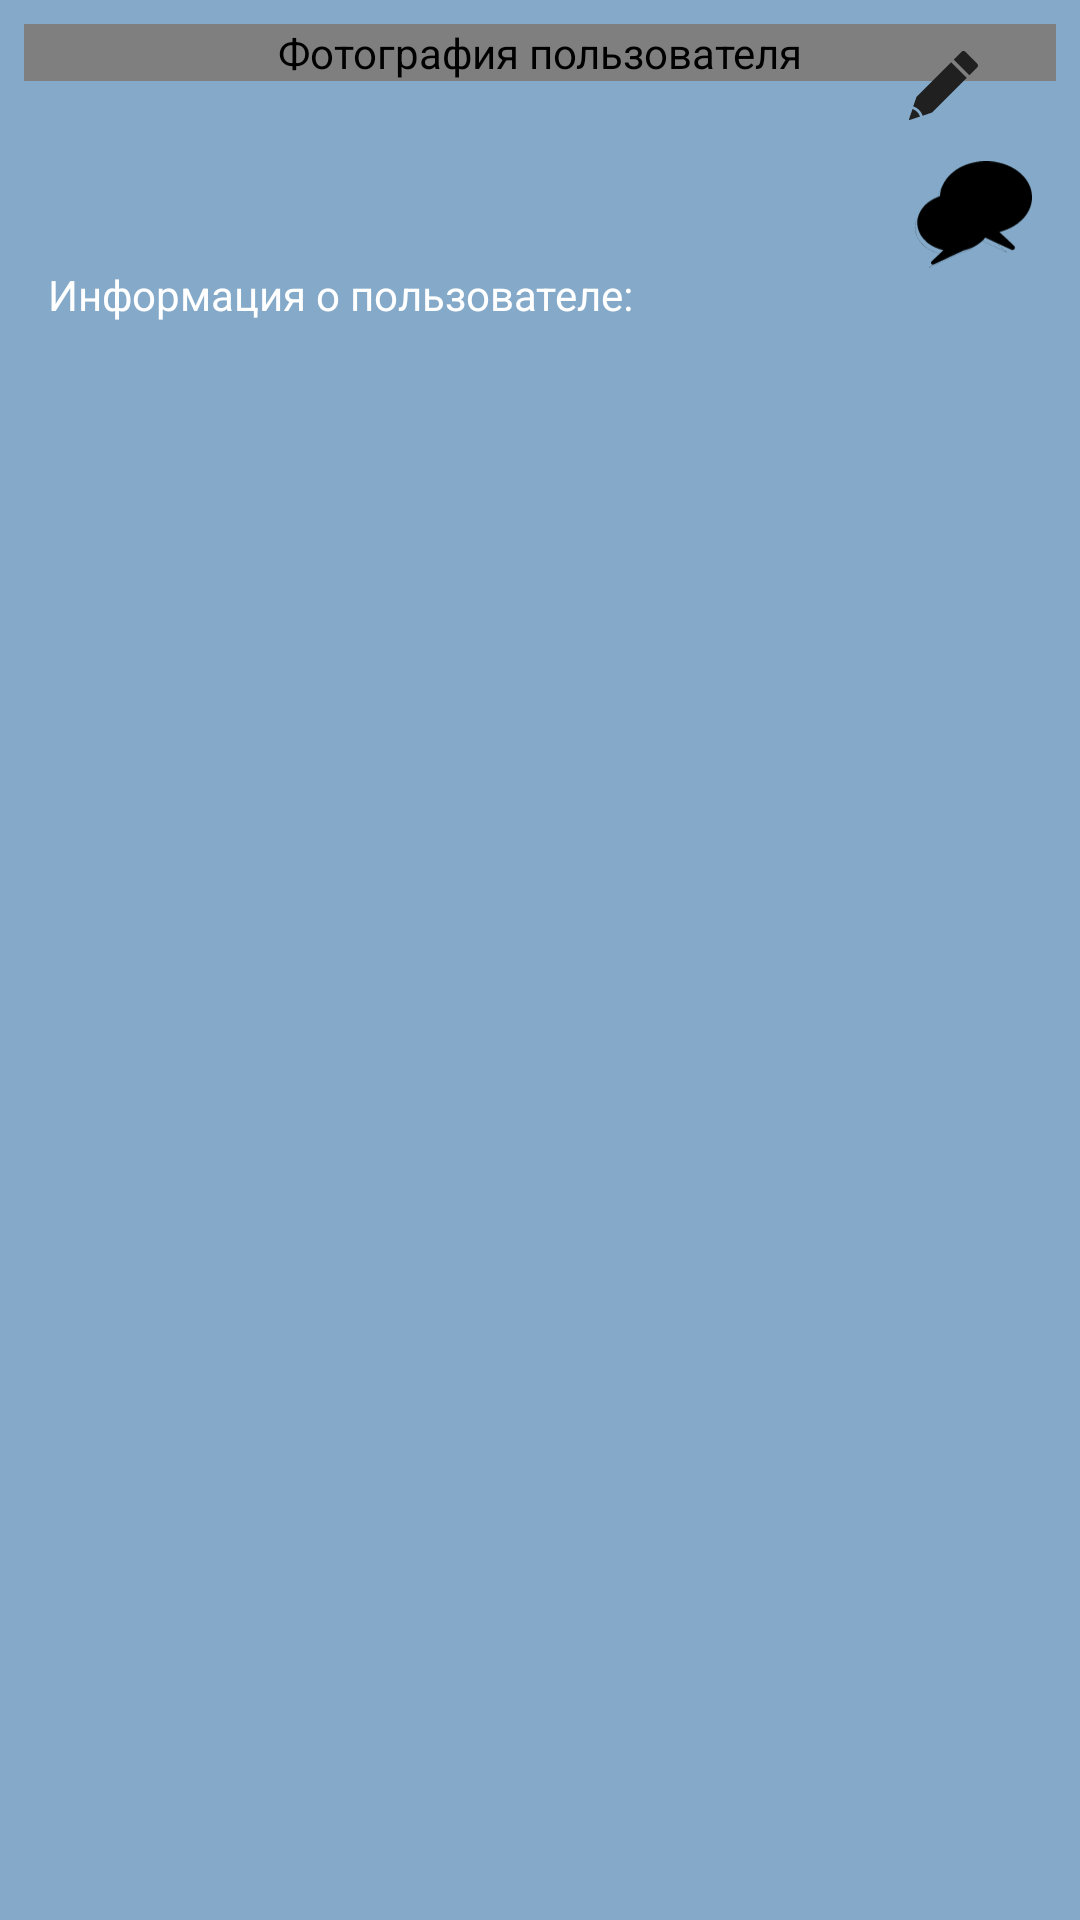

Icons on this 1080 × 1920 Android screen, each with the point to tap as (x,y):
pencilmono: (943,85)
Отправить сообщение пользователю: (973,214)
